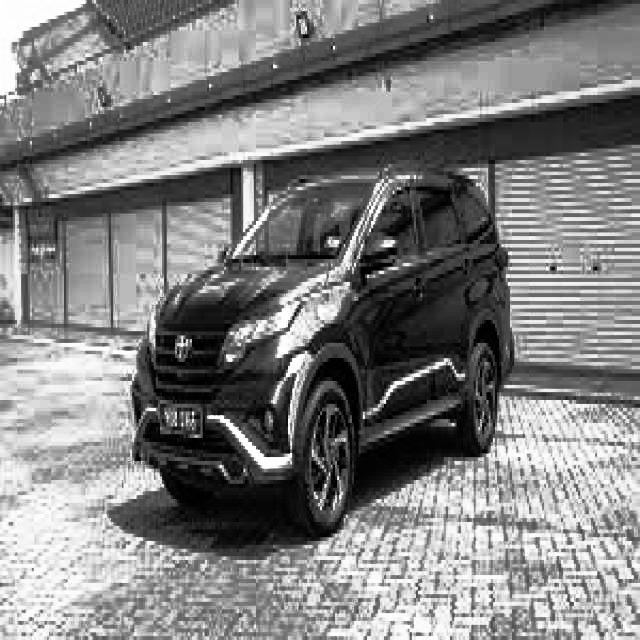Car: (125, 141, 533, 558)
